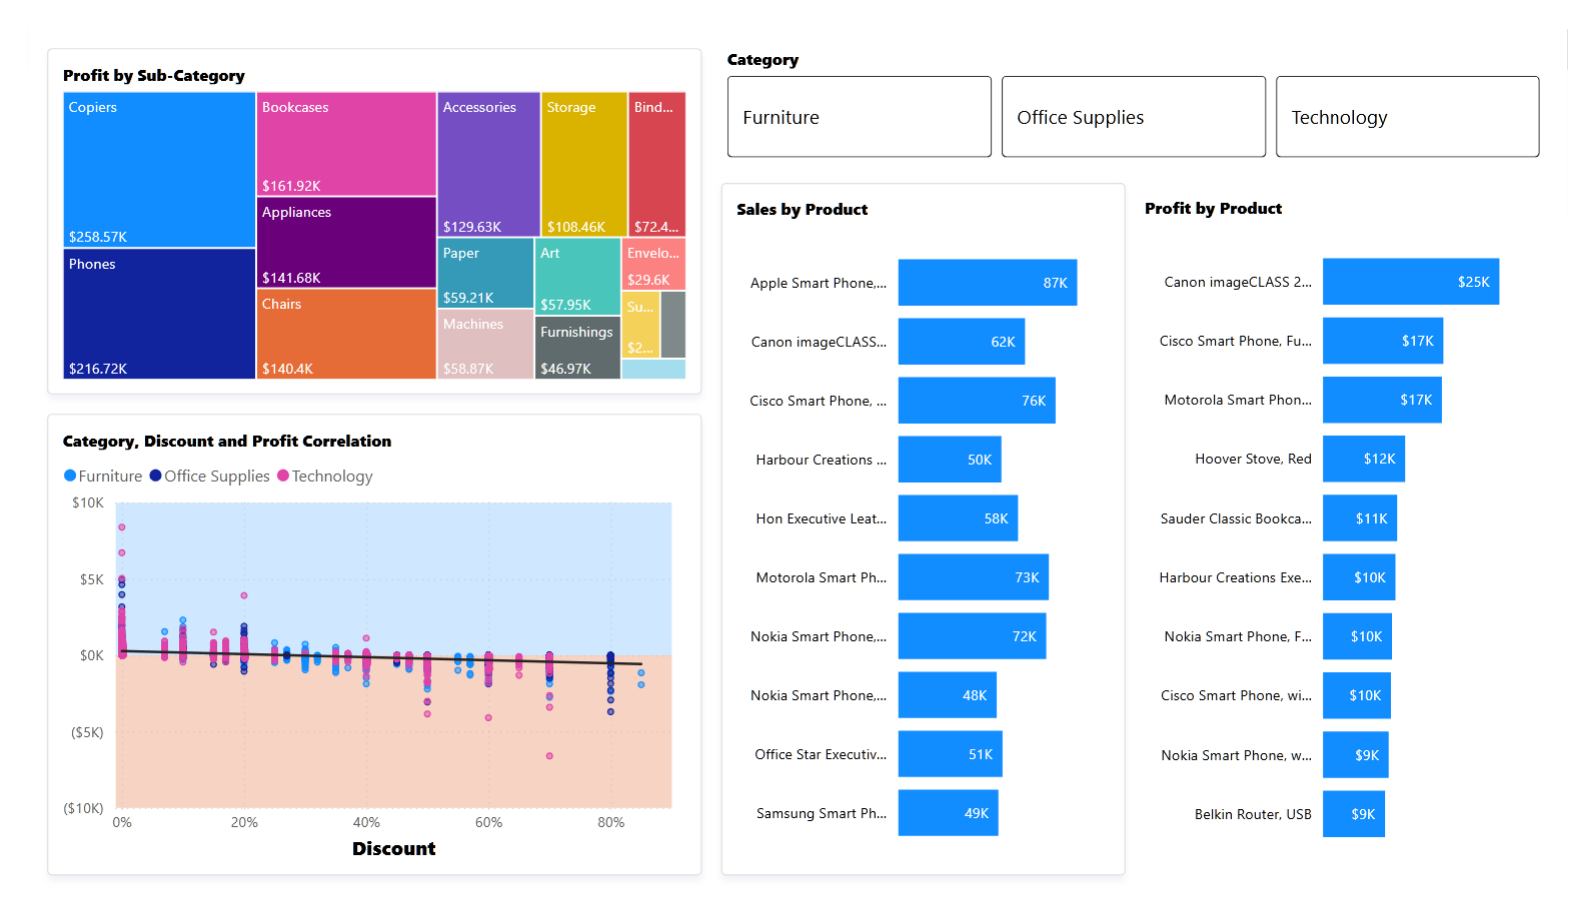

The dashboard page shown, as its layout file describes it:
{"tool":"powerbi","page":{"name":"Product Performance","canvas":[1280,720],"ordinal":1},"visuals":[{"type":"advancedSlicerVisual","title":"Category","fields":{"Values":["superstore.Category"],"Label":["Sum(superstore.Sales)"]},"box":[576,16,688,96],"z":0},{"type":"treemap","title":"Profit by Sub-Category","fields":{"Group":["superstore.Sub.Category"],"Values":["Sum(superstore.Profit)"]},"box":[16,16,544,288],"z":1000},{"type":"barChart","title":"Sales by Product","fields":{"Category":["superstore.Product.Name"],"Y":["Sum(superstore.Sales)"]},"box":[576,128,336,576],"z":2000},{"type":"barChart","title":"Profit by Product","fields":{"Category":["superstore.Product.Name"],"Y":["Sum(superstore.Profit)"]},"box":[928,128,336,576],"z":3000},{"type":"scatterChart","title":"Category, Discount and Profit Correlation","fields":{"X":["superstore.Discount"],"Y":["superstore.Profit"],"Series":["superstore.Category"]},"box":[16,320,544,384],"z":4000}]}

Visuals, with their boxes in screenshot pixels (x1, y1, x2, y2), scaled from the page's 1280x720 canvas onto the 1596x923 screenshot:
"Category" advancedSlicerVisual: (x1=718, y1=21, x2=1576, y2=144)
"Profit by Sub-Category" treemap: (x1=20, y1=21, x2=698, y2=390)
"Sales by Product" barChart: (x1=718, y1=164, x2=1137, y2=902)
"Profit by Product" barChart: (x1=1157, y1=164, x2=1576, y2=902)
"Category, Discount and Profit Correlation" scatterChart: (x1=20, y1=410, x2=698, y2=902)
